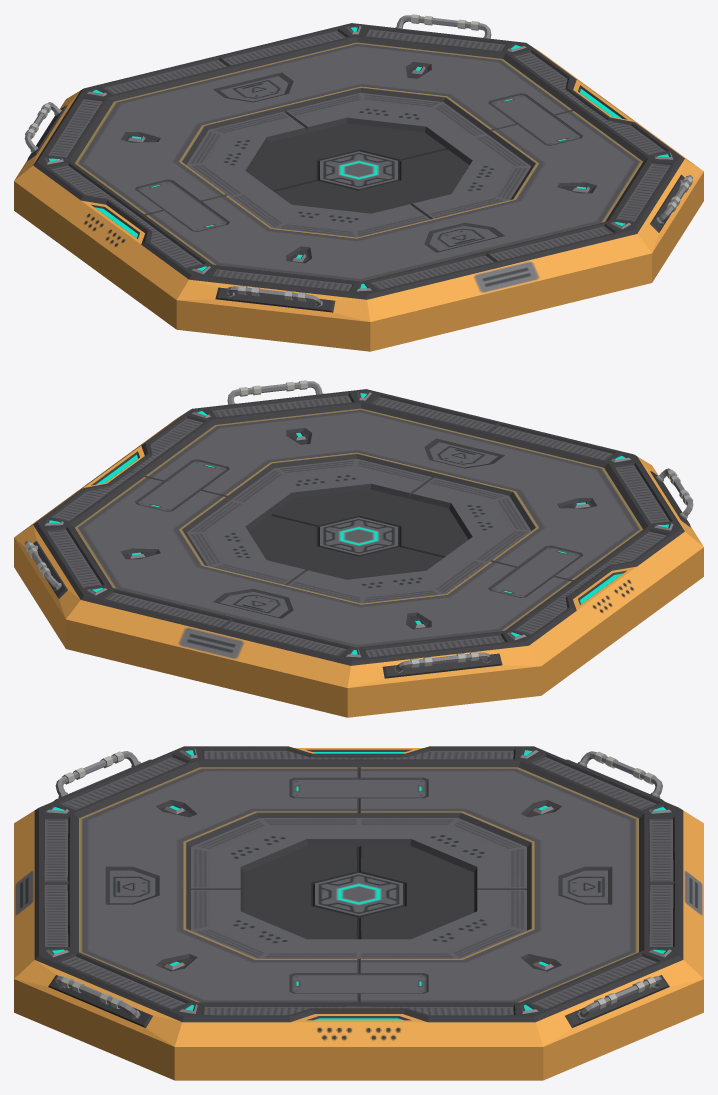
The model's file is worlds_SM_Bld_Pod_Pad_01.gltf.
The picture shows the model from 3 angles, top to bottom: view 1: azimuth 30°, elevation 25°; view 2: azimuth 150°, elevation 25°; view 3: azimuth 270°, elevation 25°; orthographic projection. The views are drawn at different scales.
Parts seen in each view (by area): view 1: SM_Bld_Pod_Pad_01; view 2: SM_Bld_Pod_Pad_01; view 3: SM_Bld_Pod_Pad_01.
Part boxes in pixels (x1=…): SM_Bld_Pod_Pad_01: x1=14, y1=14, x2=703, y2=351; SM_Bld_Pod_Pad_01: x1=14, y1=380, x2=703, y2=717; SM_Bld_Pod_Pad_01: x1=14, y1=746, x2=703, y2=1080.
Size of the model in its own units: 22.19 by 2.09 by 22.19.
Materials: 1 (1 with a texture image).
